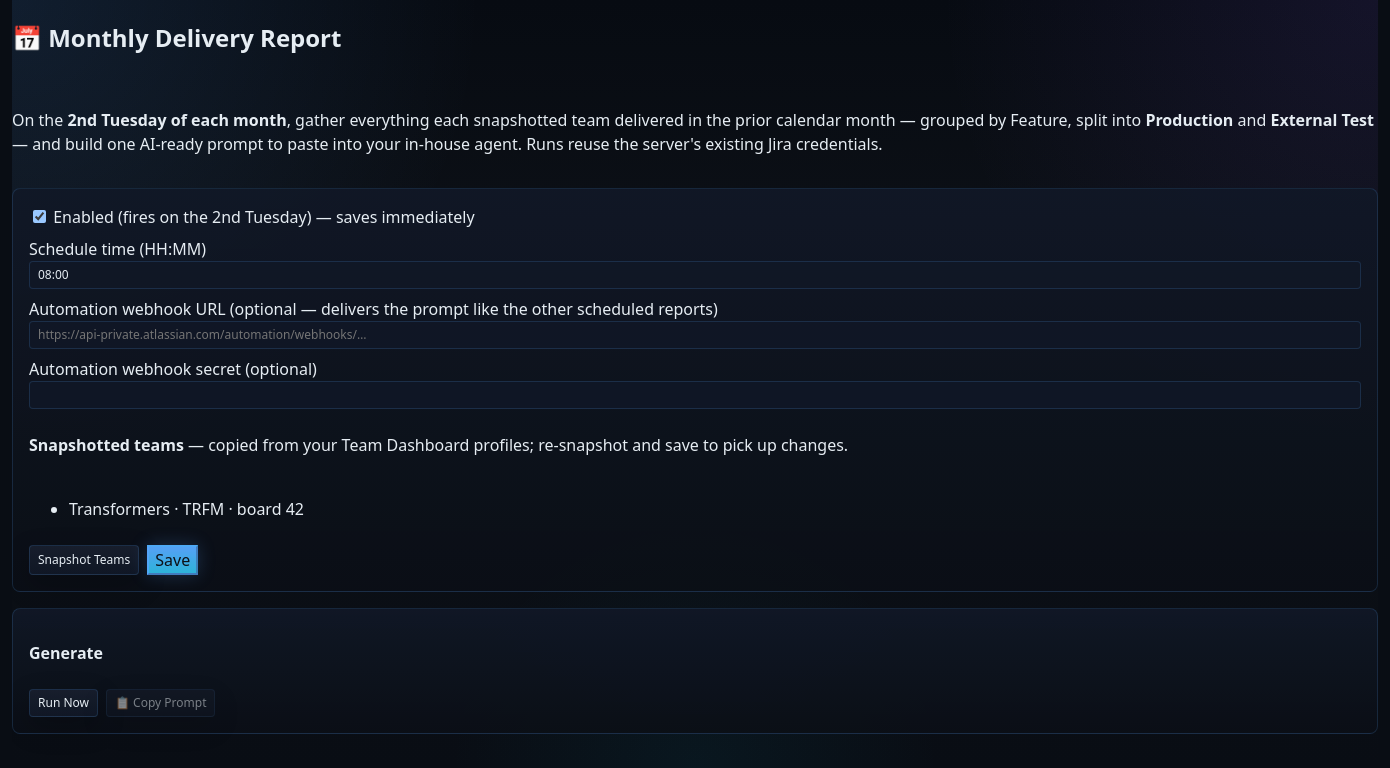
MonthlyDeliveryPanel — configuration & team snapshot (US1) › marks the webhook fields dirty for the buffered save, and posts them with the config
Type "https://api-private.atlassian.com/automation/webhooks/x" into the field labelled "Automation webhook URL" at (695, 335), box [29,321,1361,349]
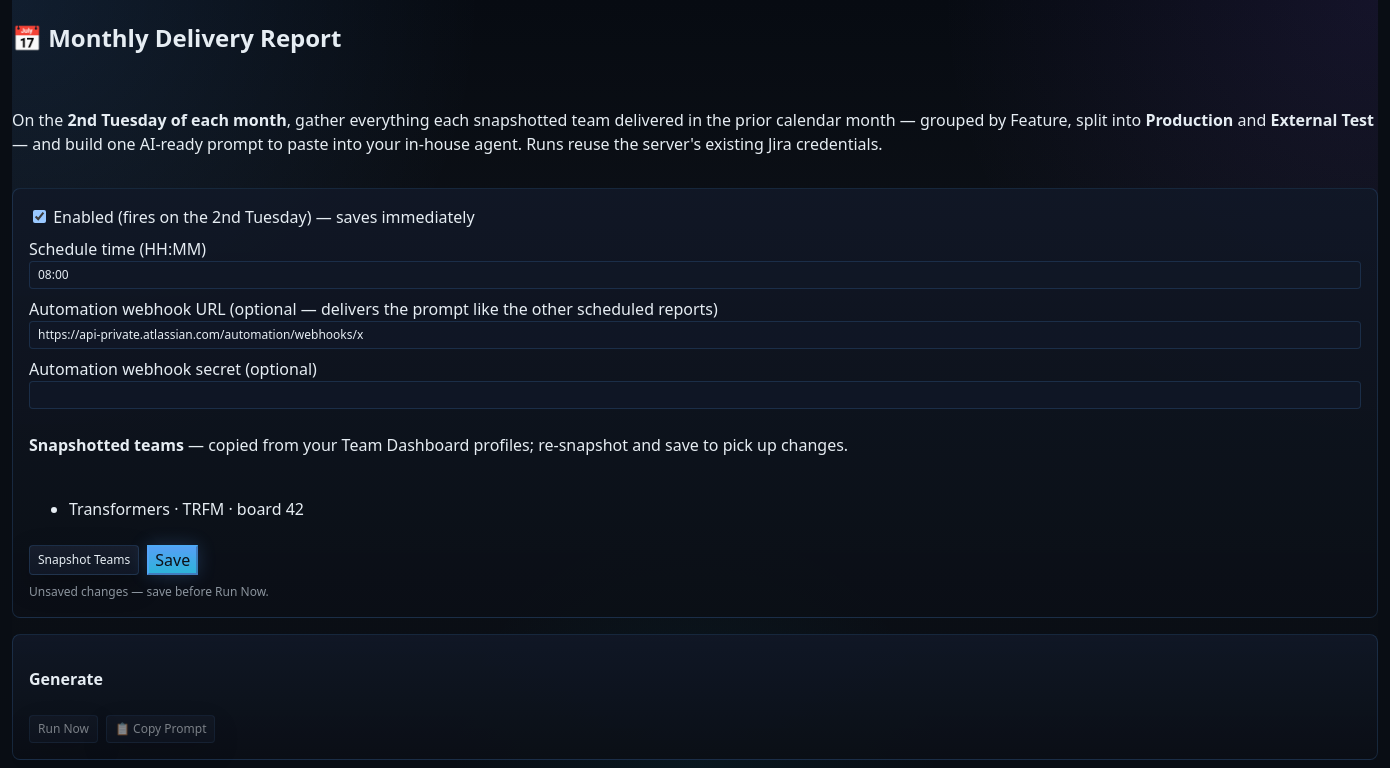
Click the button "Save" at (173, 560), box [147,545,198,575]
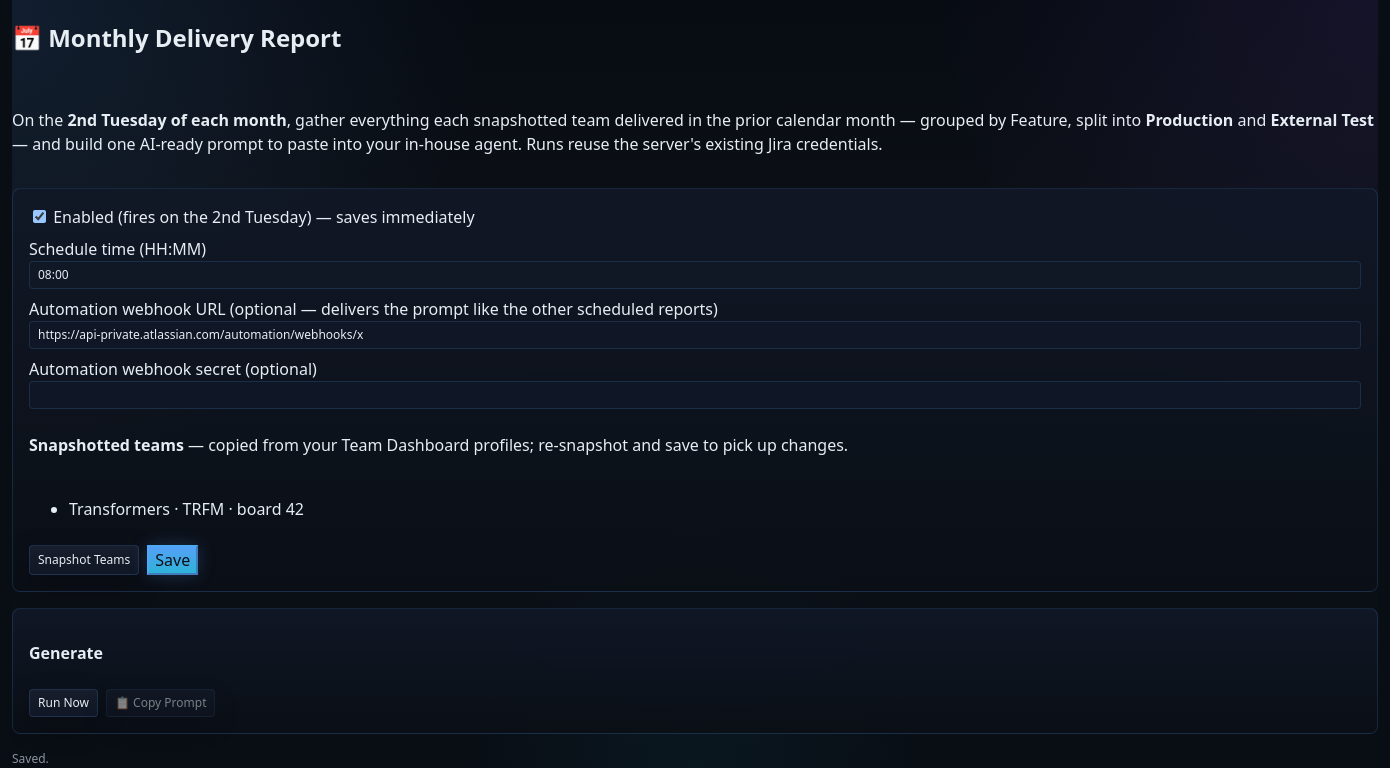
expect the message shows "Saved": met, box [12,750,49,767]
